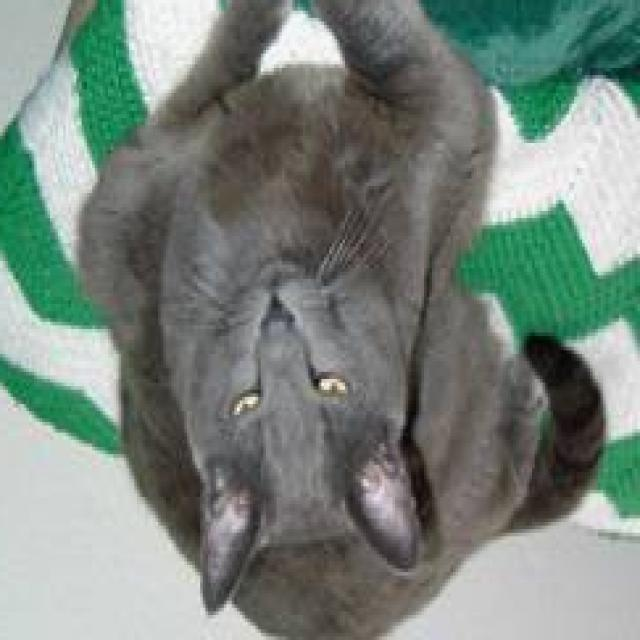Kucing: (40, 65, 621, 626)
